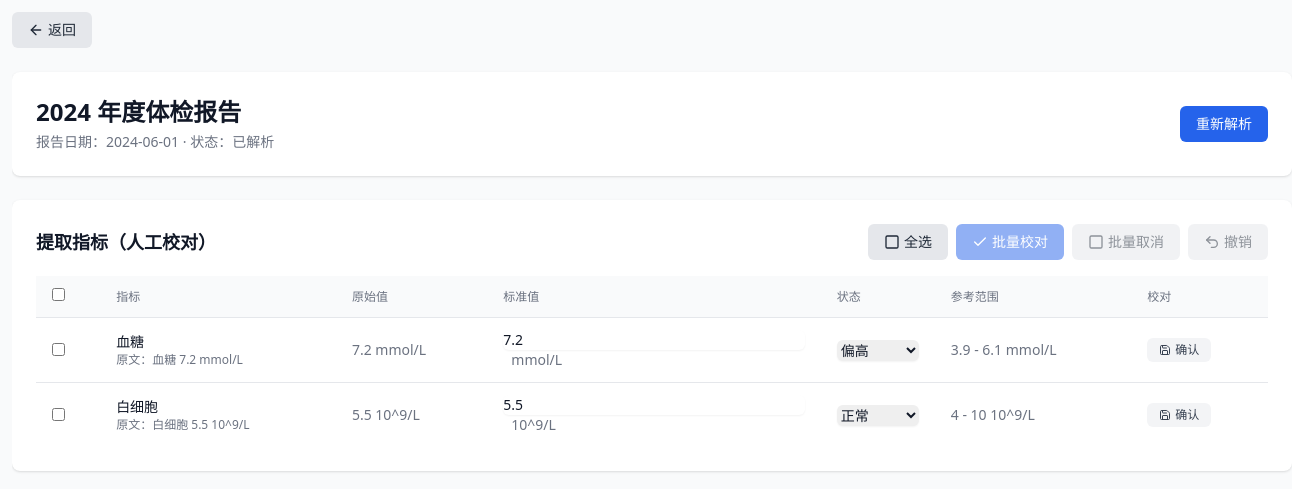
ReportDetail › toggles select all
Expected: the text "血糖" is shown, [116,332,144,351]
Click the button "全选": point(908, 242) [868,224,948,260]
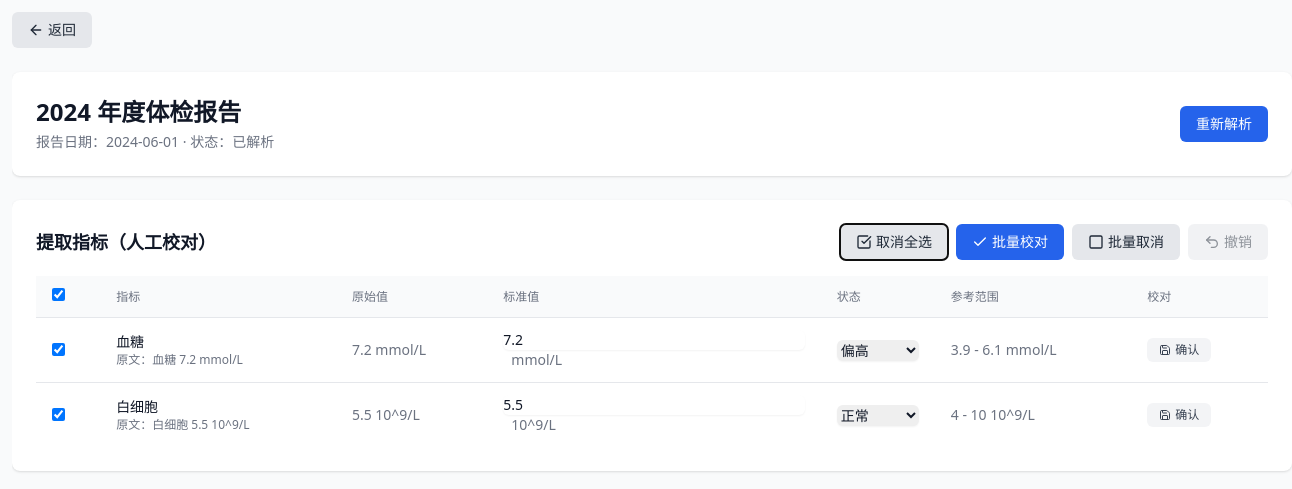
Now the button "批量校对" is enabled, box [956,224,1064,260]
